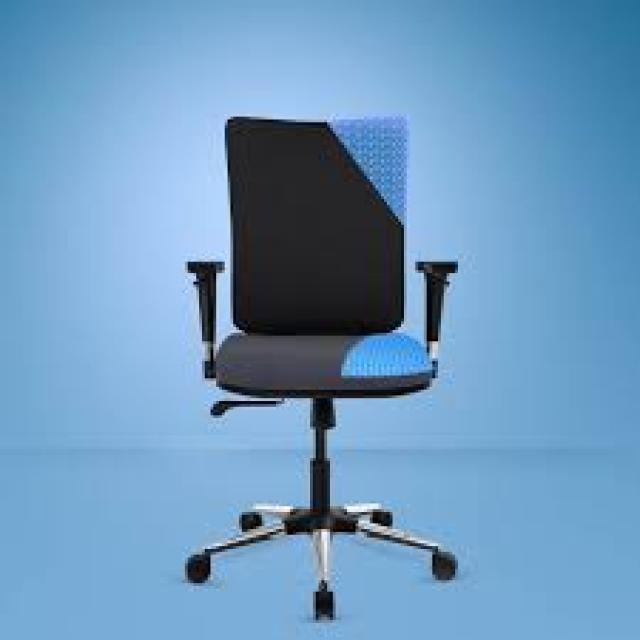chair: (142, 96, 597, 640)
